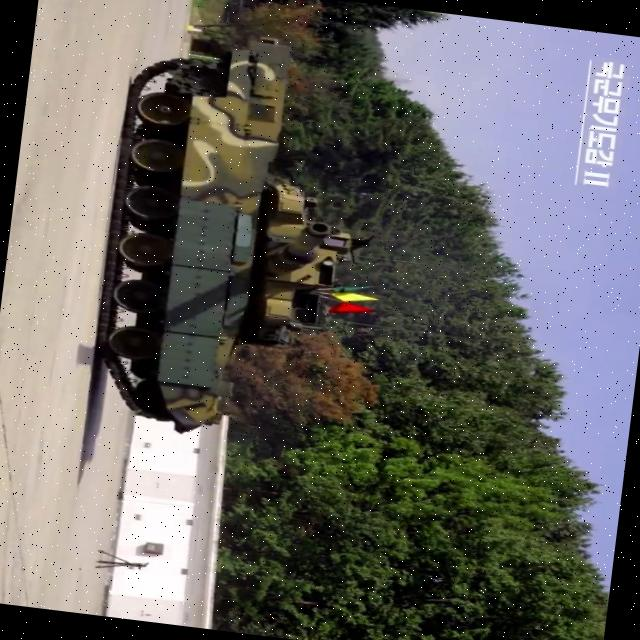korea tank: (84, 20, 403, 455)
